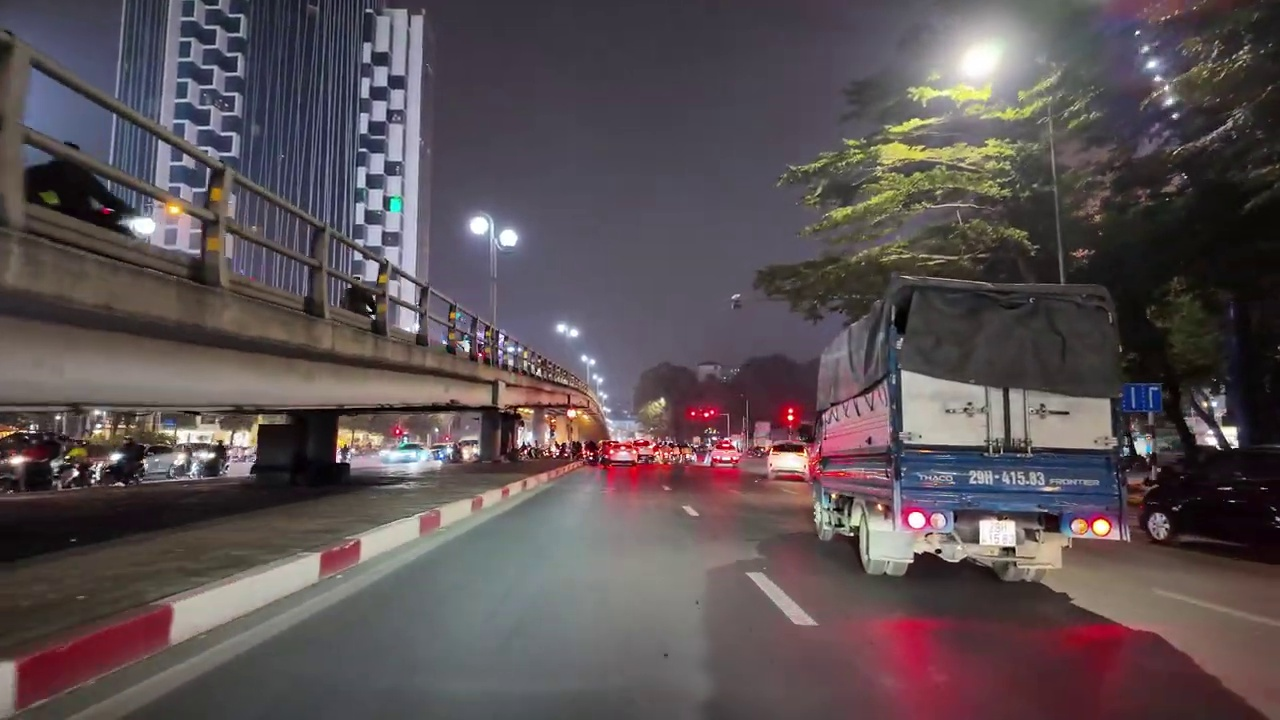acesa: (956, 36, 1005, 88), (467, 212, 496, 240), (553, 319, 581, 342)
